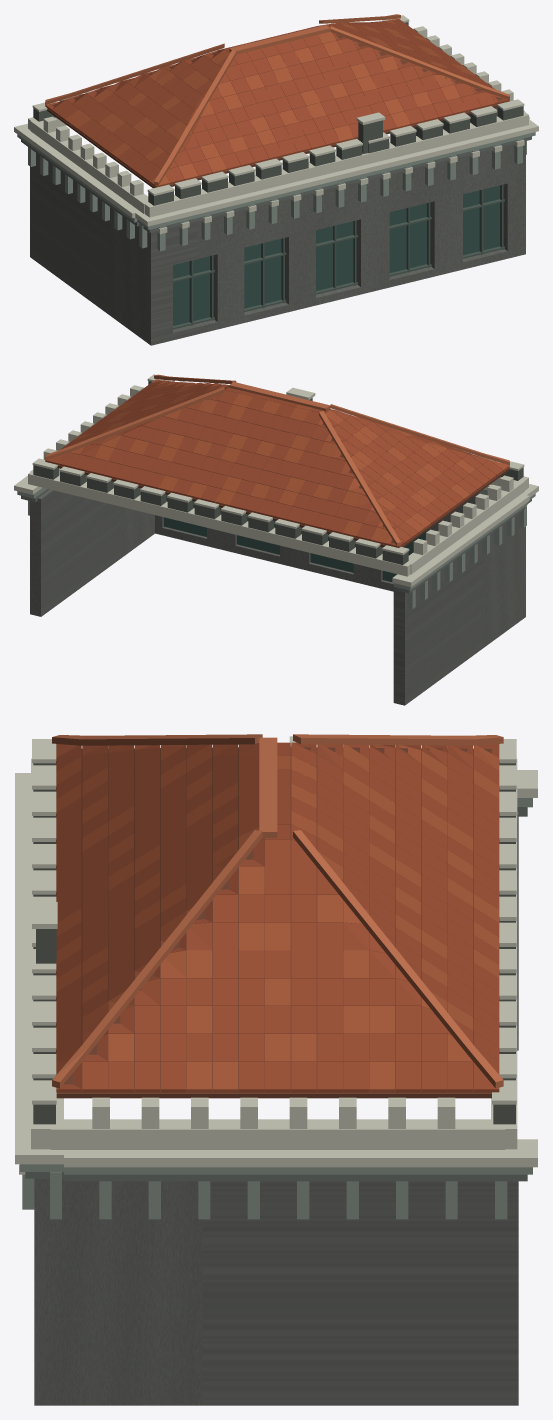
File: changning-dengyun-apartments-crenellated-tile-roof-lod.glb
3 renders of one model, top to bottom at view 1: azimuth 30°, elevation 25°; view 2: azimuth 150°, elevation 25°; view 3: azimuth 270°, elevation 25°, orthographic. The views are drawn at different scales.
Visible parts, largest first — view 1: 登云公寓翼楼红瓦坡顶与齿形女儿墙; view 2: 登云公寓翼楼红瓦坡顶与齿形女儿墙; view 3: 登云公寓翼楼红瓦坡顶与齿形女儿墙.
Part boxes in pixels (box(x1,y1,x2,y2)): 登云公寓翼楼红瓦坡顶与齿形女儿墙: box(14, 14, 538, 345); 登云公寓翼楼红瓦坡顶与齿形女儿墙: box(14, 374, 538, 705); 登云公寓翼楼红瓦坡顶与齿形女儿墙: box(15, 734, 537, 1405).
Bounding box in the file's own units: 6.74 × 3.57 × 3.84.
11 materials, 1 textured.
